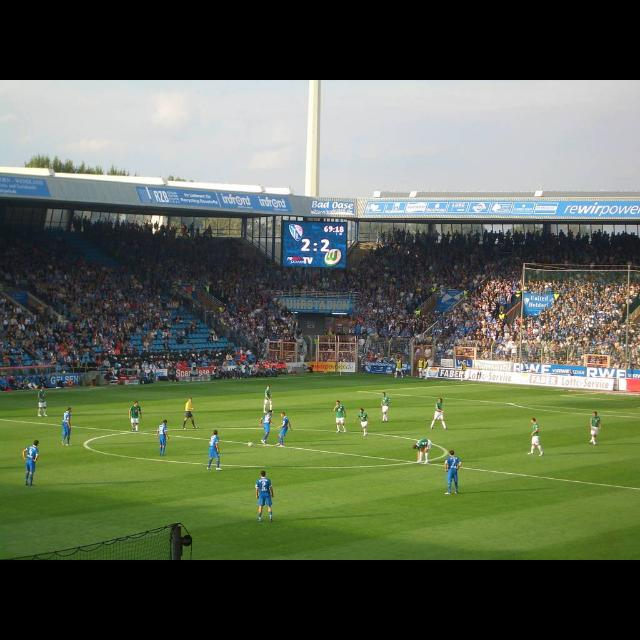Football: (248, 442, 252, 446)
